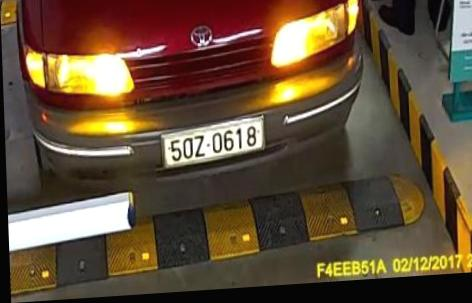License_Plate: (162, 119, 268, 165)
